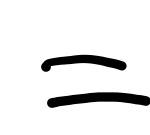eqv: (38, 51, 150, 108)
